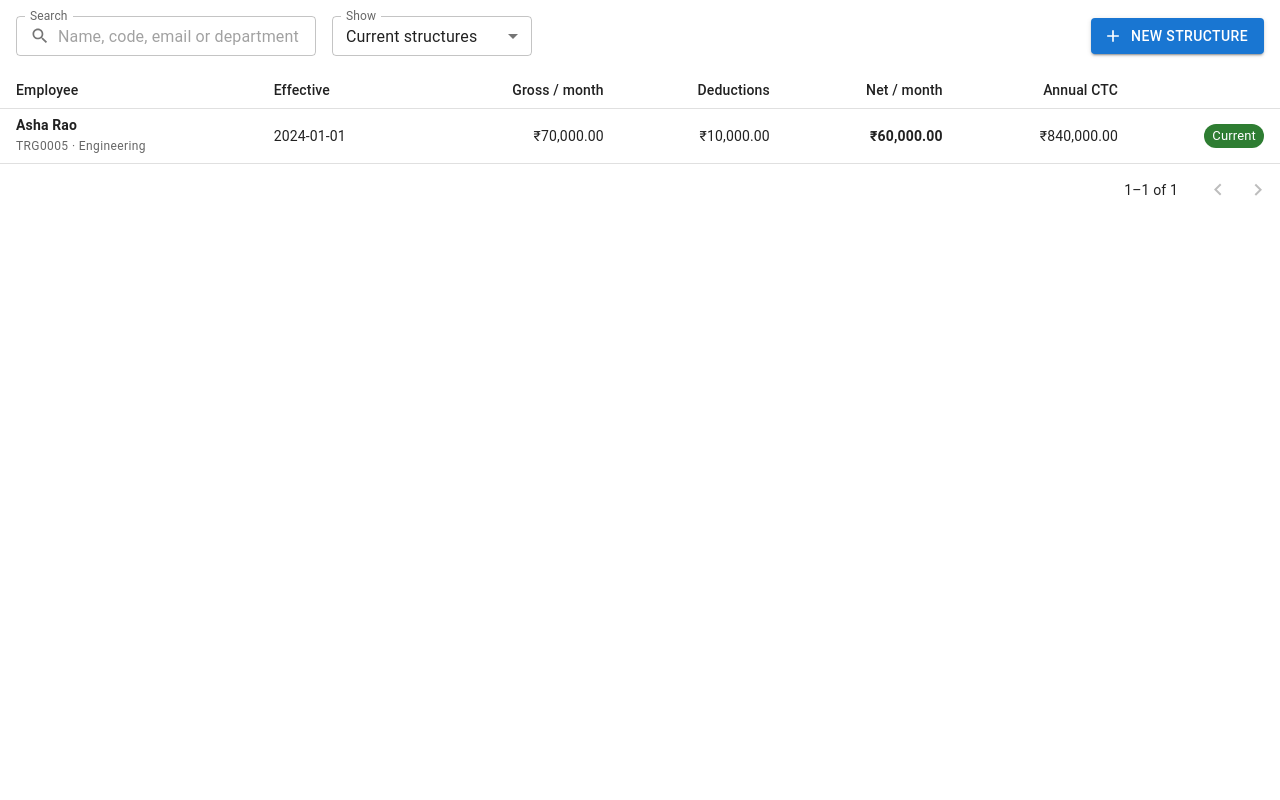
Scenario: SalaryStructuresTab — choosing the employee › says so when nobody matches
Click the button "New structure".
click(1178, 36)  # box [1091,18,1264,54]
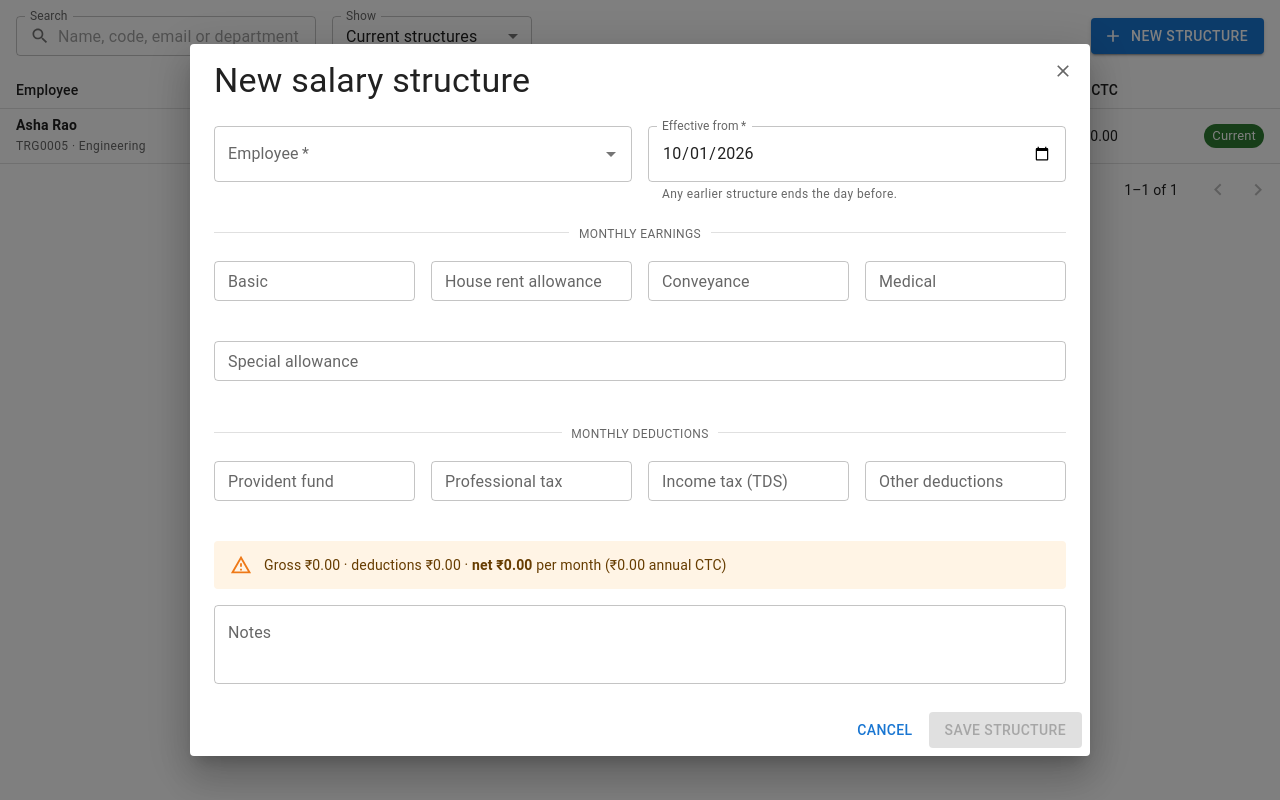
Type "zzzz" into the dropdown labelled "Employee *".
click(408, 154); type("zzzz")  # box [223,135,593,173]
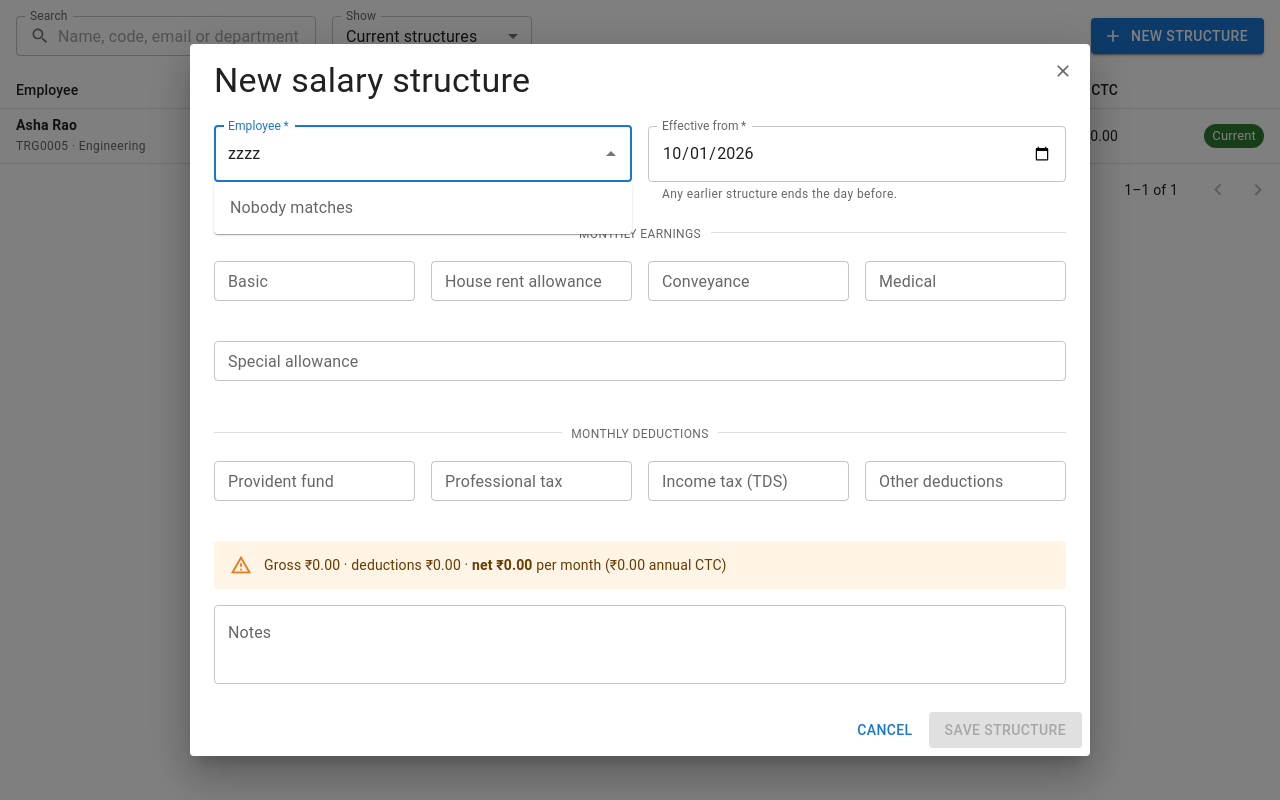
Expected: the text "Nobody matches" is shown, [230,198,353,217]
